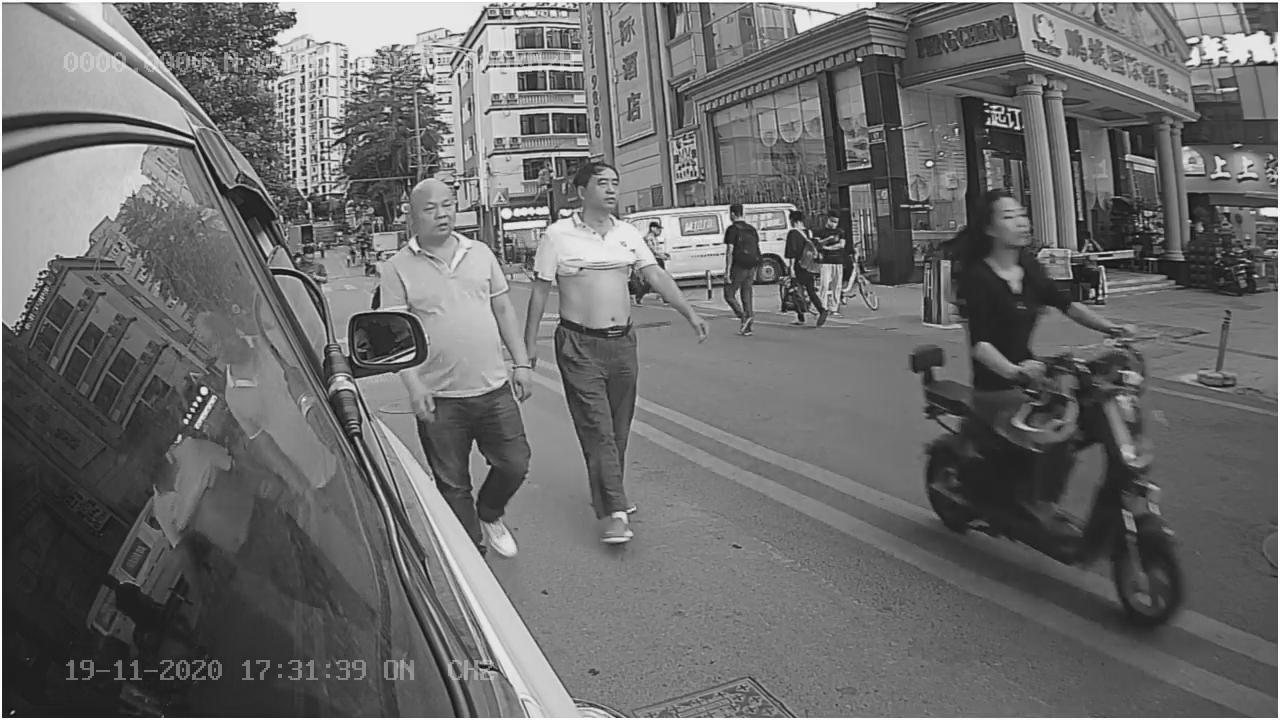person: (533, 160, 679, 547), (944, 202, 1092, 350)
